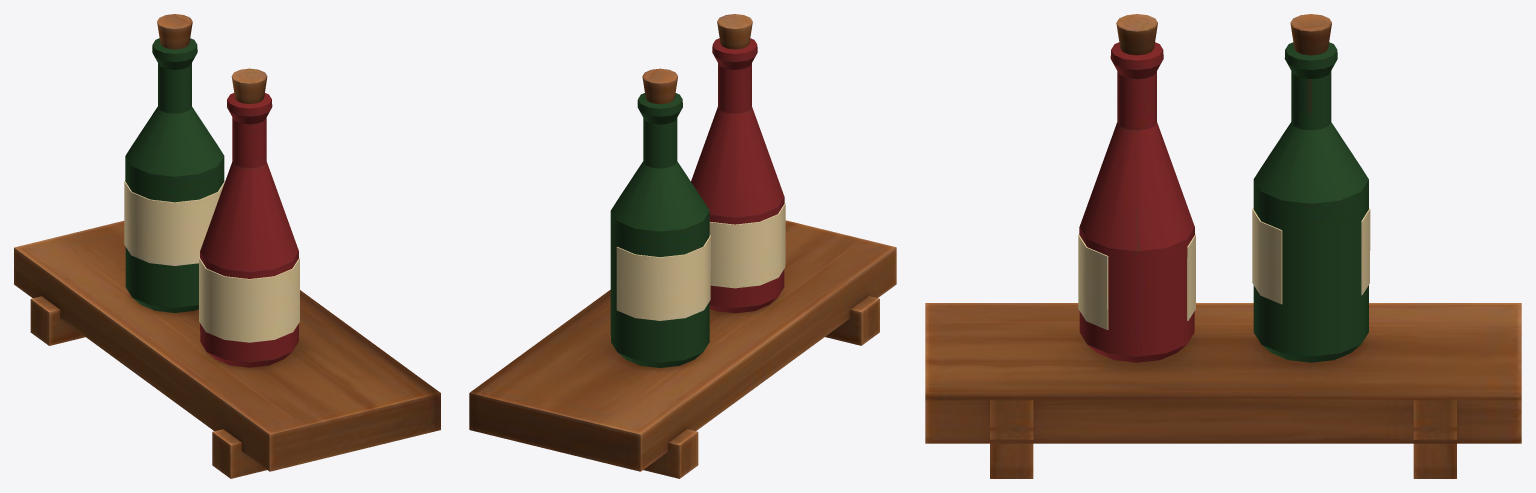
File: room_shelf.gltf
The picture shows the model from 3 angles, left to right: view 1: azimuth 30°, elevation 25°; view 2: azimuth 150°, elevation 25°; view 3: azimuth 270°, elevation 25°; orthographic projection. The views are drawn at different scales.
Parts seen in each view (by area): view 1: room_shelf; view 2: room_shelf; view 3: room_shelf.
Boxes of the visible parts, x1,y1,x2,y2 form: room_shelf: (14, 14, 440, 478); room_shelf: (469, 14, 896, 478); room_shelf: (925, 14, 1521, 478).
Bounding box in the file's own units: 2.84 × 4.72 × 6.5.
Materials: 2 (2 with a texture image).
